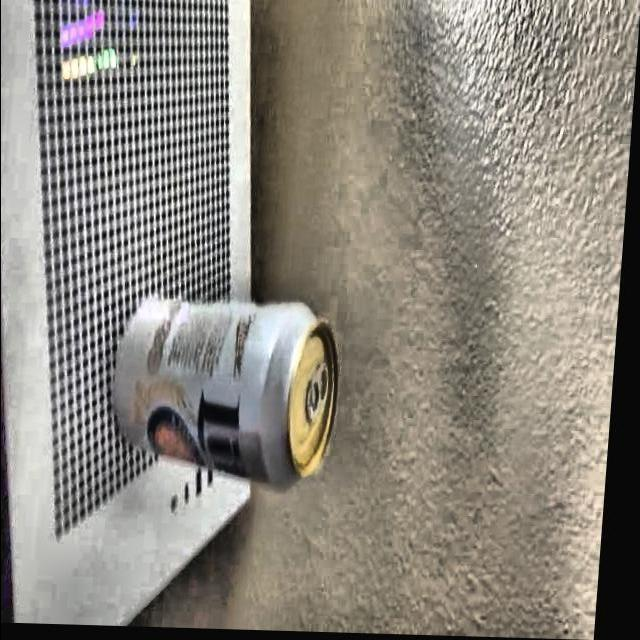litter: (104, 294, 363, 495)
